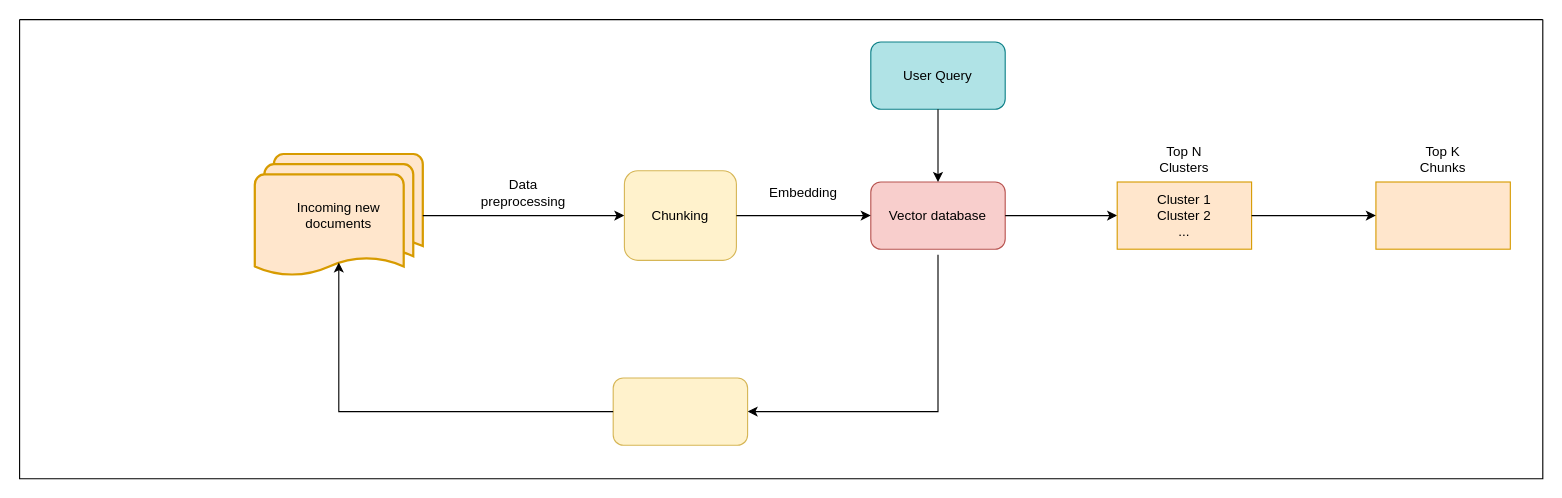
Image size: 1562x498. Some labels were removed from this diagram. Each missing label, with the centre of its shape:
Chunk 1 Chunk 2 ...: the point at 1442,215
Online Clustering: the point at 680,411
